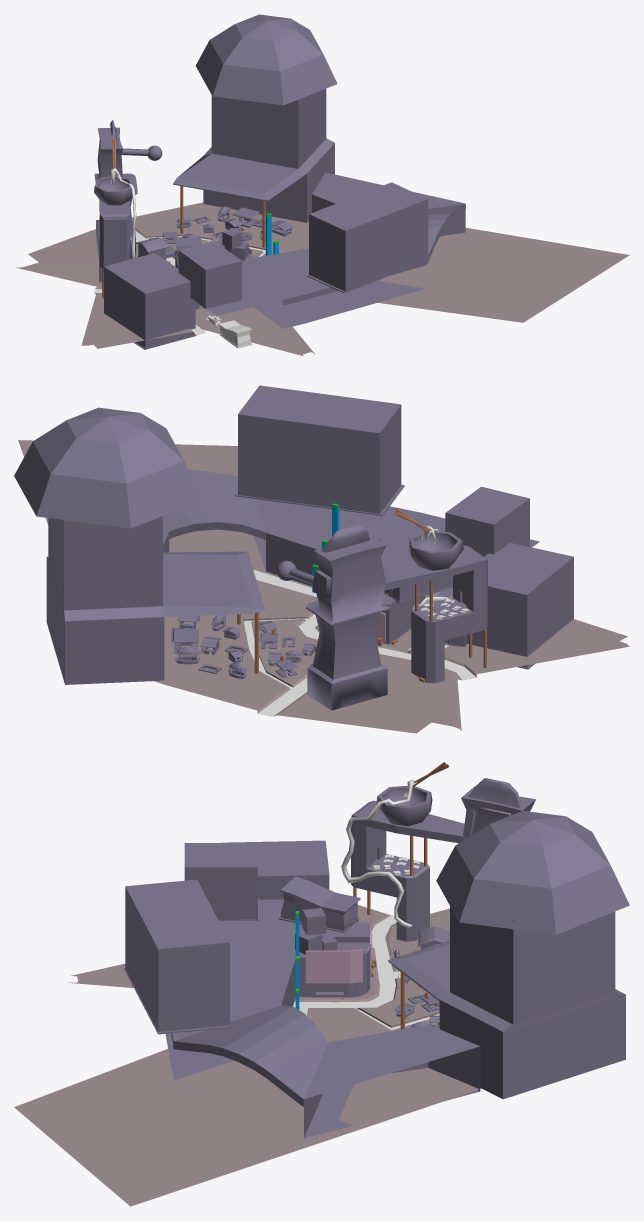
Rendered from Tryout1.fbx.
3 views of the same model, one above another, from view 1: azimuth 30°, elevation 25°; view 2: azimuth 150°, elevation 25°; view 3: azimuth 270°, elevation 25° (orthographic). The views are drawn at different scales.
Parts seen in each view (by area): view 1: Plane.008, Plane.025, Cube.010, Cube.067, Sphere.001, Cube.050, Cube.028, Max_Height_1.001, Cylinder.031, Cylinder.024, Cube.011, Cube.008; view 2: Plane.008, Plane.025, Cube.067, Sphere.001, Cylinder.031, Cube.010, Cube.050, Max_Height_1.001, Cube.028, Cylinder.024, Cube.009, Cube.016 (+1 smaller); view 3: Plane.008, Plane.025, Cube.010, Sphere.001, Cube.067, Max_Height_1.001, Cube.028, Cube.050, Cube.016, Cylinder.031, Cube.012, Cylinder.024 (+2 smaller).
Part boxes in pixels (left/top/right/bottom): Plane.008: left=16, top=202, right=629, bottom=356; Plane.025: left=173, top=89, right=334, bottom=222; Cube.010: left=207, top=172, right=465, bottom=328; Cube.067: left=307, top=182, right=430, bottom=293; Sphere.001: left=195, top=14, right=337, bottom=105; Cube.050: left=104, top=253, right=196, bottom=349; Cube.028: left=178, top=241, right=242, bottom=309; Max_Height_1.001: left=99, top=200, right=130, bottom=282; Cylinder.031: left=94, top=120, right=137, bottom=259; Cylinder.024: left=94, top=175, right=135, bottom=205; Cube.011: left=218, top=320, right=252, bottom=348; Cube.008: left=135, top=237, right=176, bottom=260; Plane.008: left=18, top=440, right=629, bottom=733; Plane.025: left=46, top=516, right=264, bottom=684; Cube.067: left=234, top=385, right=404, bottom=515; Sphere.001: left=14, top=407, right=202, bottom=528; Cylinder.031: left=305, top=524, right=390, bottom=710; Cube.010: left=163, top=470, right=539, bottom=586; Cube.050: left=466, top=543, right=573, bottom=669; Max_Height_1.001: left=383, top=545, right=487, bottom=683; Cube.028: left=445, top=486, right=529, bottom=556; Cylinder.024: left=408, top=531, right=463, bottom=570; Cube.009: left=375, top=593, right=425, bottom=644; Cube.016: left=383, top=558, right=452, bottom=603; Plane.008: left=14, top=905, right=481, bottom=1206; Plane.025: left=388, top=906, right=625, bottom=1099; Cube.010: left=165, top=899, right=480, bottom=1138; Sphere.001: left=436, top=811, right=629, bottom=934; Cube.067: left=124, top=879, right=231, bottom=1034; Max_Height_1.001: left=351, top=800, right=464, bottom=941; Cube.028: left=184, top=843, right=258, bottom=920; Cube.050: left=221, top=840, right=329, bottom=899; Cube.016: left=278, top=876, right=360, bottom=932; Cylinder.031: left=461, top=778, right=535, bottom=839; Cube.012: left=305, top=949, right=362, bottom=983; Cylinder.024: left=376, top=785, right=432, bottom=826.
Size of the model in its own units: 46834 by 16608 by 36344.
